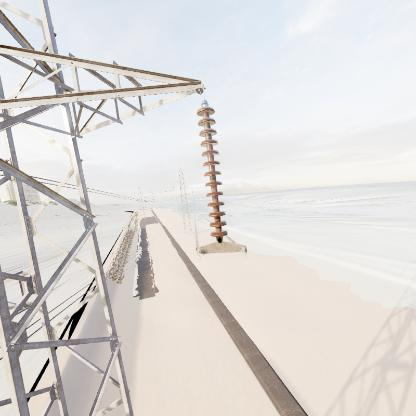insulator: (193, 102, 229, 243)
